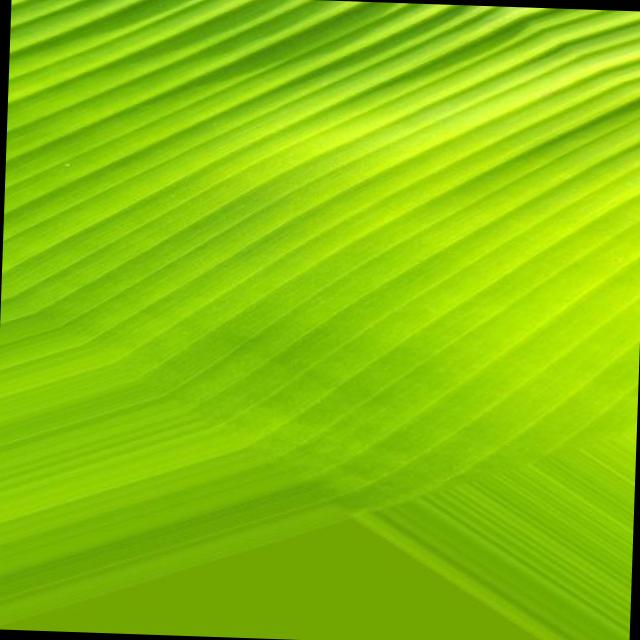Banana_Healthy: (71, 88, 566, 486)
